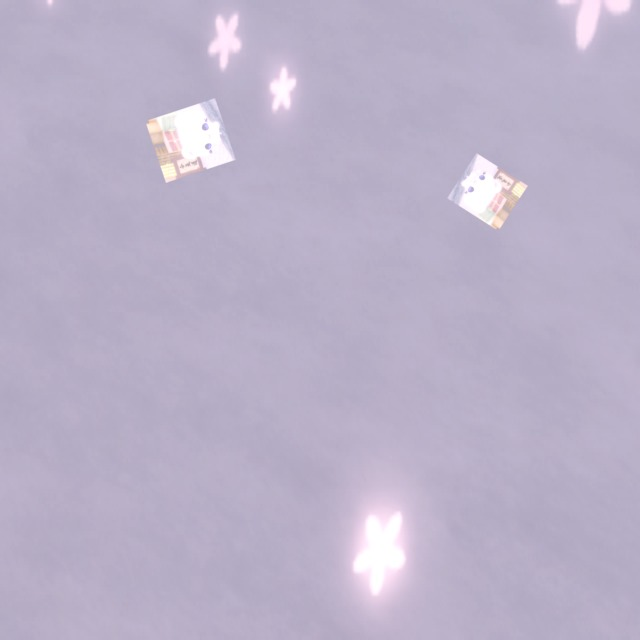urso_branco: (145, 98, 236, 183), (447, 153, 528, 231)
